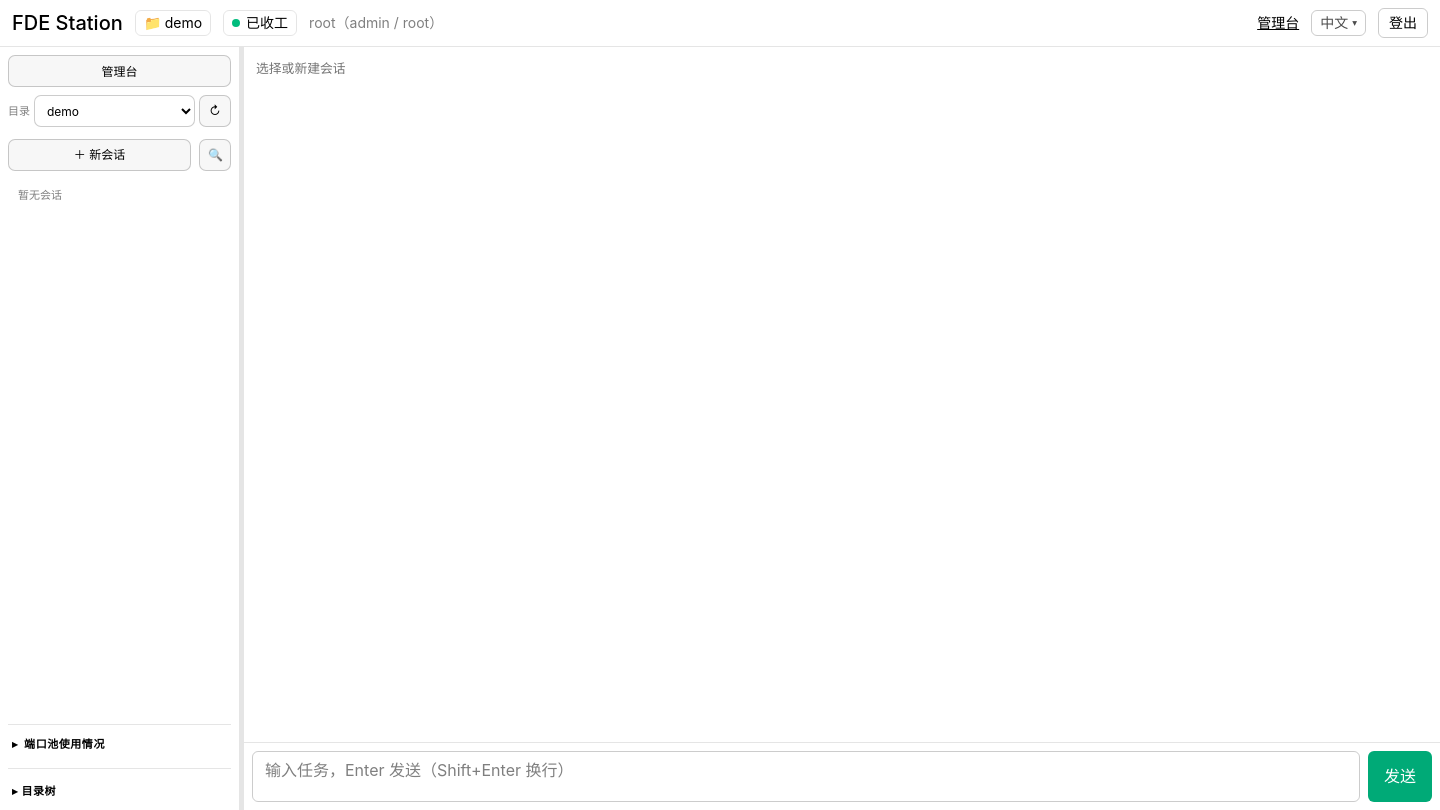
Test: WorkbenchView 顶栏 · i18n（issue #101 P2） › 切 English：顶栏 + 嵌套侧栏文案即时变英文（who 改半角括号），并持久化
The image size is (1440, 810).
Expected: the text "root（admin / root）" is shown, [309,14,443,31]
Click the button "中文 ▾" at (1339, 23), box [1311,10,1366,36]
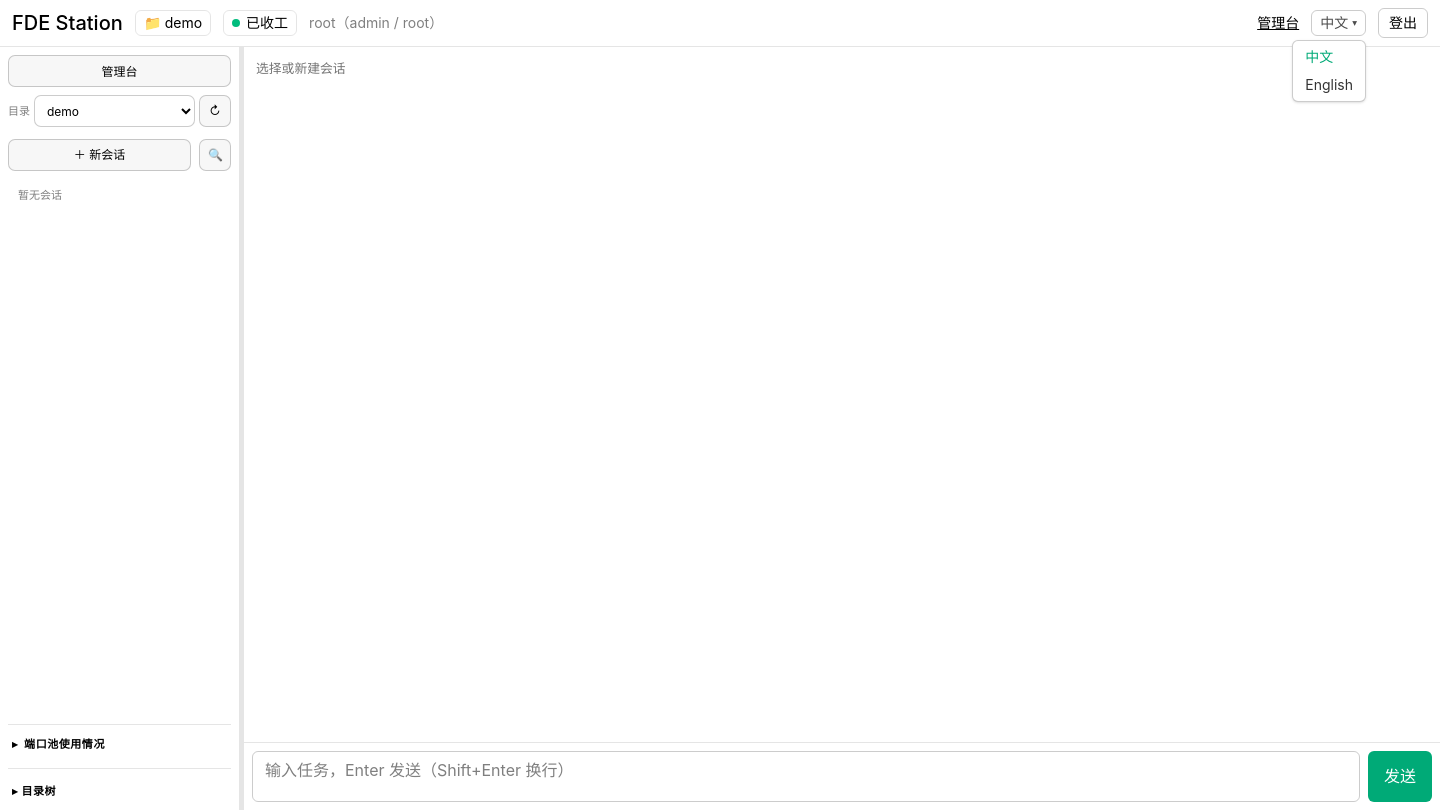
Click the menu item "English" at (1329, 85), box [1293,71,1365,99]
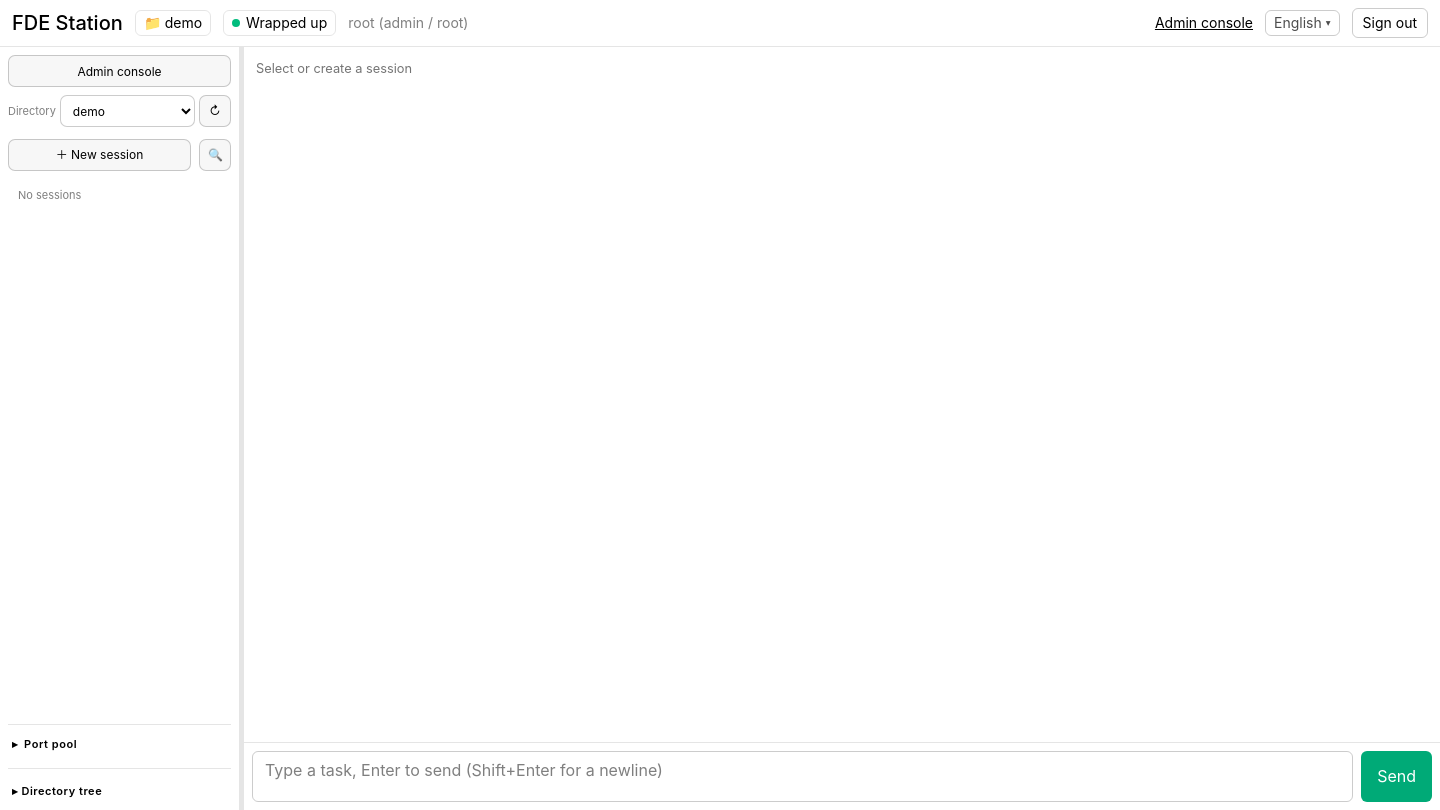
Expected: the text "root (admin / root)" is shown, [348,14,468,31]
Expected: the link to "/admin" reads "Admin console", [1155,13,1253,33]
Expected: the button "Sign out" is shown, [1352,8,1428,38]
